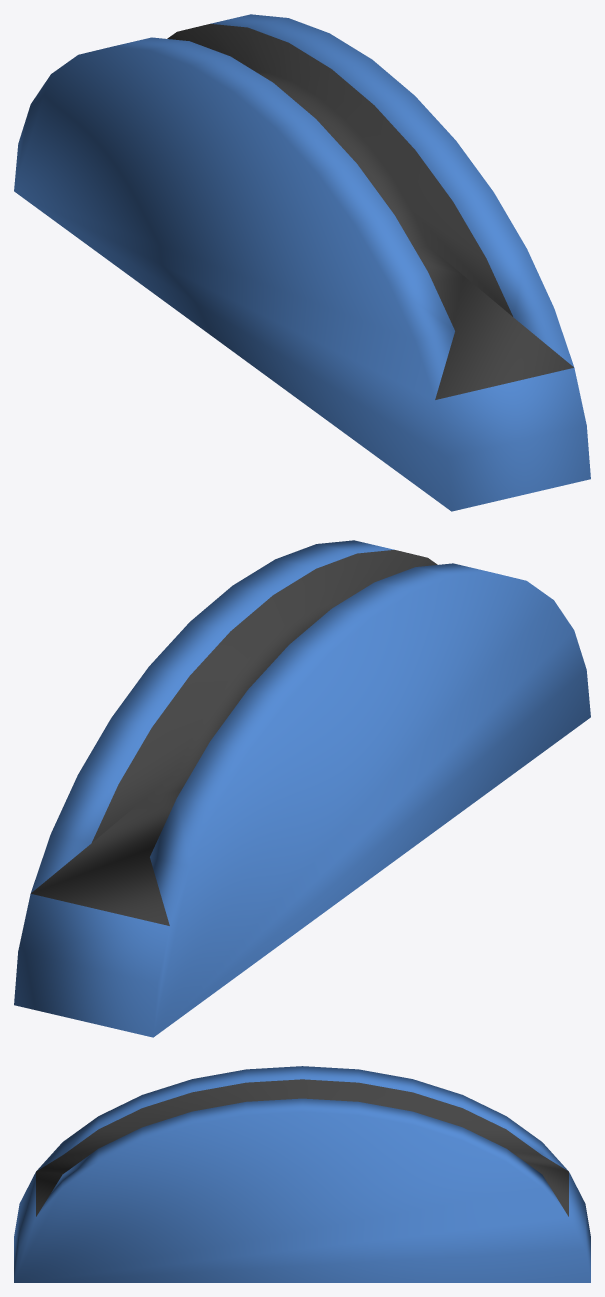
File: LeverBase.fbx
The picture shows the model from 3 angles, top to bottom: view 1: azimuth 30°, elevation 25°; view 2: azimuth 150°, elevation 25°; view 3: azimuth 270°, elevation 25°; orthographic projection. The views are drawn at different scales.
Parts seen in each view (by area): view 1: Cube; view 2: Cube; view 3: Cube.
Boxes of the visible parts, bbox=[...] form: Cube: bbox=[14, 14, 590, 511]; Cube: bbox=[14, 540, 590, 1037]; Cube: bbox=[14, 1066, 590, 1282].
Size of the model in its own units: 16.53 by 29.53 by 89.78.
